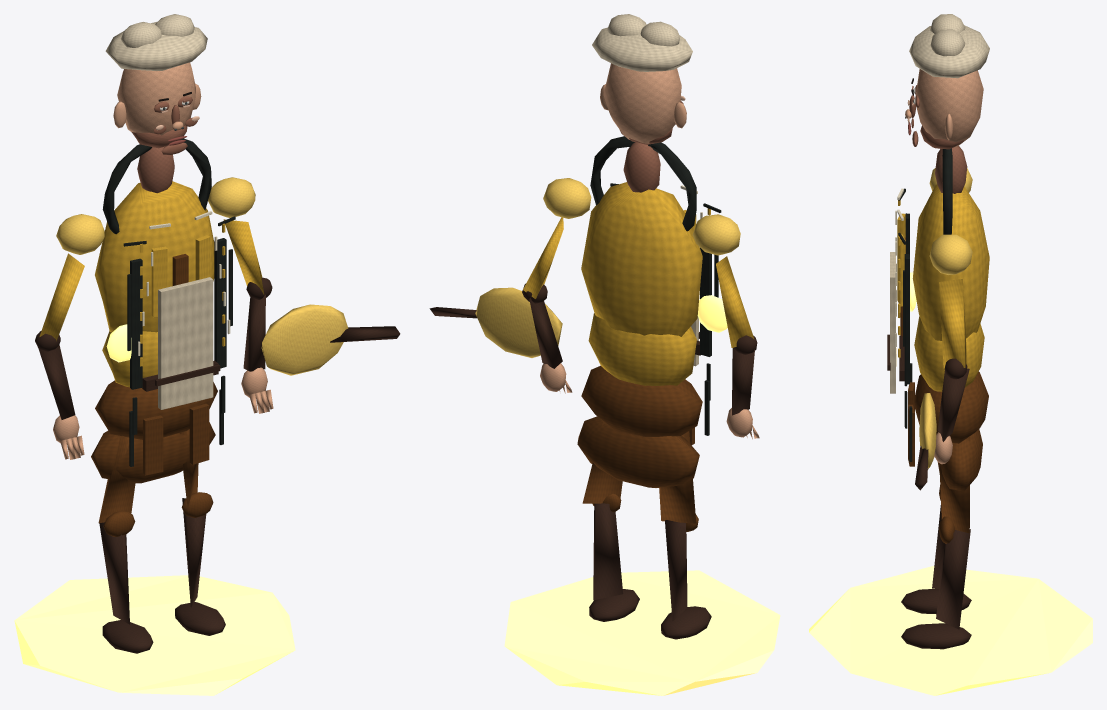
The model's file is solar-chef-lod1.glb.
3 views of the same model, side by side, from view 1: azimuth 30°, elevation 25°; view 2: azimuth 150°, elevation 25°; view 3: azimuth 270°, elevation 25° (orthographic).
Parts seen in each view (by area): view 1: solar-chef_table_scale_base_lod1, solar-chef_ribcage_lod1, solar-chef_apron_panel_lod1, solar-chef_iron_pan_lod1, solar-chef_head_lod1, solar-chef_pelvis_lod1, solar-chef_coat_tail_lod1, solar-chef_chef_cap_lod1, solar-chef_raised_collar_lod1, solar-chef_left_shin_lod1, solar-chef_left_upper_arm_lod1, solar-chef_left_shoulder_lod1 (+23 smaller); view 2: solar-chef_table_scale_base_lod1, solar-chef_ribcage_lod1, solar-chef_pelvis_lod1, solar-chef_coat_tail_lod1, solar-chef_abdomen_lod1, solar-chef_head_lod1, solar-chef_iron_pan_lod1, solar-chef_chef_cap_lod1, solar-chef_right_shin_lod1, solar-chef_raised_collar_lod1, solar-chef_left_shin_lod1, solar-chef_left_upper_arm_lod1 (+16 smaller); view 3: solar-chef_table_scale_base_lod1, solar-chef_ribcage_lod1, solar-chef_head_lod1, solar-chef_chef_cap_lod1, solar-chef_right_shin_lod1, solar-chef_pelvis_lod1, solar-chef_abdomen_lod1, solar-chef_right_upper_arm_lod1, solar-chef_coat_tail_lod1, solar-chef_right_boot_lod1, solar-chef_right_shoulder_lod1, solar-chef_right_thigh_lod1 (+10 smaller).
Boxes of the visible parts, x1,y1,x2,y2 form: solar-chef_table_scale_base_lod1: (14,575,295,695); solar-chef_ribcage_lod1: (95,181,214,332); solar-chef_apron_panel_lod1: (158,277,213,409); solar-chef_iron_pan_lod1: (261,304,348,375); solar-chef_head_lod1: (117,62,195,135); solar-chef_pelvis_lod1: (95,380,217,439); solar-chef_coat_tail_lod1: (91,422,215,483); solar-chef_chef_cap_lod1: (105,21,207,70); solar-chef_raised_collar_lod1: (102,138,211,234); solar-chef_left_shin_lod1: (99,522,129,624); solar-chef_left_upper_arm_lod1: (39,253,84,341); solar-chef_left_shoulder_lod1: (56,214,104,254); solar-chef_table_scale_base_lod1: (504,570,780,695); solar-chef_ribcage_lod1: (581,182,702,336); solar-chef_pelvis_lod1: (581,365,702,436); solar-chef_coat_tail_lod1: (577,416,699,487); solar-chef_abdomen_lod1: (588,313,696,385); solar-chef_head_lod1: (603,63,681,143); solar-chef_iron_pan_lod1: (475,287,562,357); solar-chef_chef_cap_lod1: (592,24,692,71); solar-chef_right_shin_lod1: (593,503,623,600); solar-chef_raised_collar_lod1: (590,136,696,231); solar-chef_left_shin_lod1: (665,520,687,621); solar-chef_left_upper_arm_lod1: (716,256,754,347); solar-chef_table_scale_base_lod1: (809,566,1092,695); solar-chef_ribcage_lod1: (912,184,989,340); solar-chef_head_lod1: (915,69,983,147); solar-chef_chef_cap_lod1: (909,25,989,78); solar-chef_right_shin_lod1: (936,529,970,629); solar-chef_pelvis_lod1: (913,371,988,443); solar-chef_abdomen_lod1: (914,316,984,391); solar-chef_right_upper_arm_lod1: (939,279,967,368); solar-chef_coat_tail_lod1: (938,429,982,491); solar-chef_right_boot_lod1: (901,623,971,649); solar-chef_right_shoulder_lod1: (929,234,972,274); solar-chef_right_thigh_lod1: (939,436,970,533).
Bounding box in the file's own units: 1.21 × 2.05 × 0.8602.
Materials: 15 (13 with a texture image).
